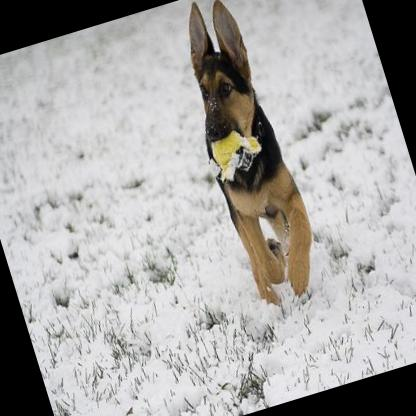German_shepherd: (160, 0, 332, 316)
